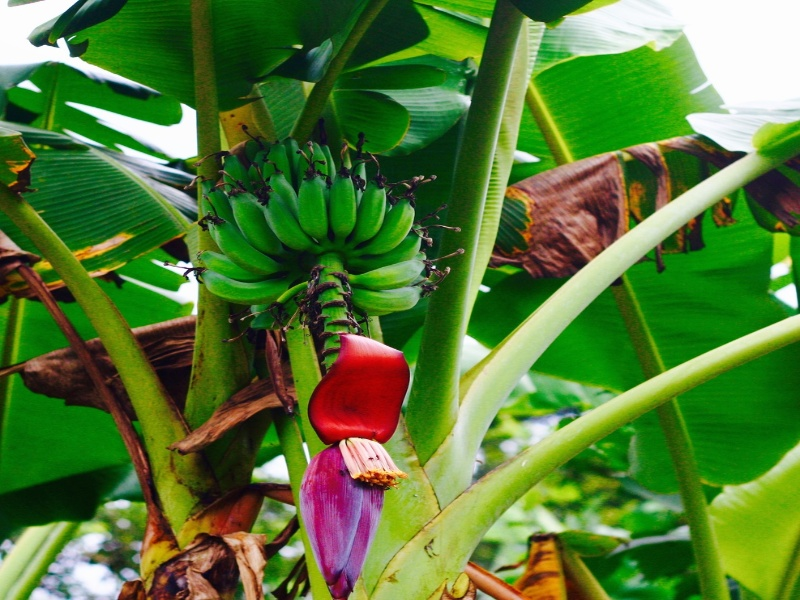banana: (188, 149, 316, 274), (299, 127, 389, 244), (177, 249, 298, 313), (342, 254, 450, 325), (354, 186, 437, 265)
